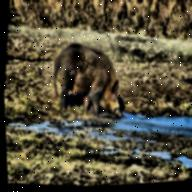boar: (37, 18, 162, 158)
